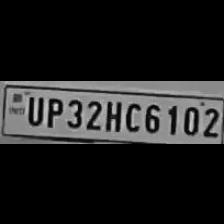0: (180, 101, 198, 135)
1: (162, 101, 178, 135)
2: (200, 102, 220, 138), (83, 95, 103, 129)
3: (64, 94, 82, 128)
6: (141, 100, 161, 134)
C: (122, 99, 142, 133)
H: (102, 96, 122, 130)
P: (43, 93, 62, 127)
U: (24, 93, 42, 125)
